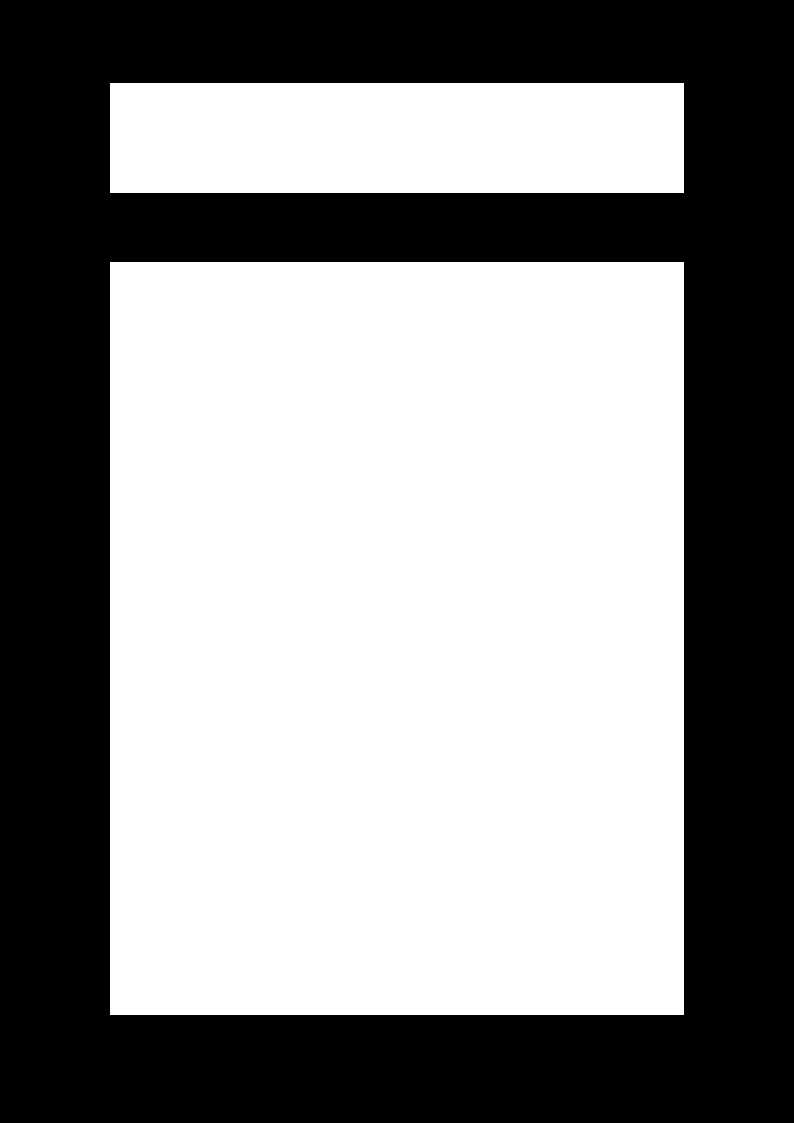table: (110, 262, 683, 1014), (110, 83, 683, 192)
